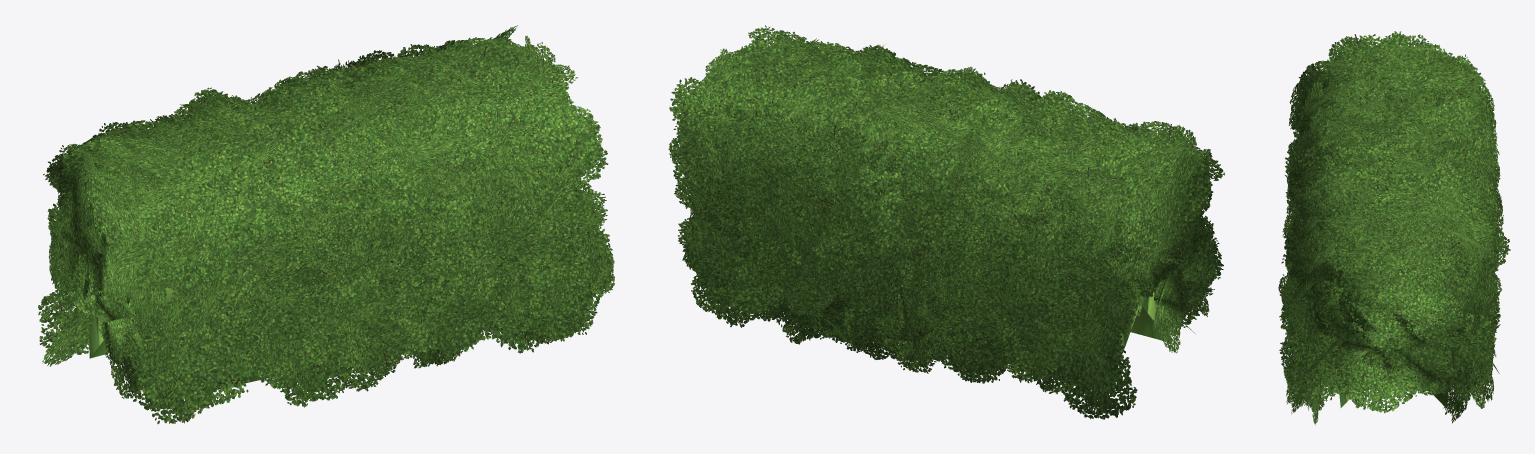
The model's file is Hedge_Boxwood.fbx.
The picture shows the model from 3 angles, left to right: view 1: azimuth 30°, elevation 25°; view 2: azimuth 150°, elevation 25°; view 3: azimuth 270°, elevation 25°; orthographic projection. The views are drawn at different scales.
Visible parts, largest first — view 1: Hedge_Boxwood; view 2: Hedge_Boxwood; view 3: Hedge_Boxwood.
Boxes of the visible parts, box(x1,y1,x2,y2) form: Hedge_Boxwood: box(38, 25, 614, 423); Hedge_Boxwood: box(668, 25, 1224, 419); Hedge_Boxwood: box(1278, 31, 1510, 424).
Size of the model in its own units: 2.35 by 1.27 by 1.17.
1 material, 1 textured.
